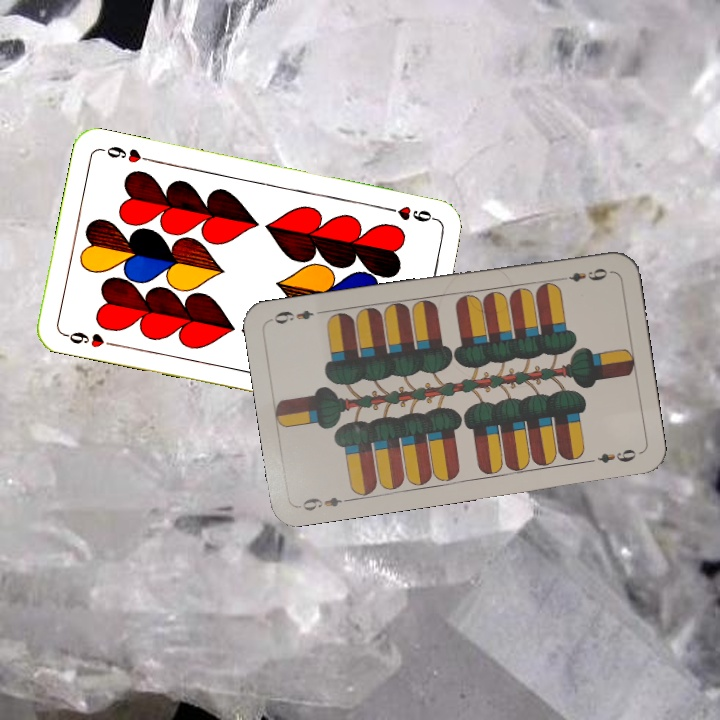E9: (554, 264, 613, 285), (295, 493, 354, 514)
H9: (381, 202, 440, 225), (59, 328, 118, 350)
